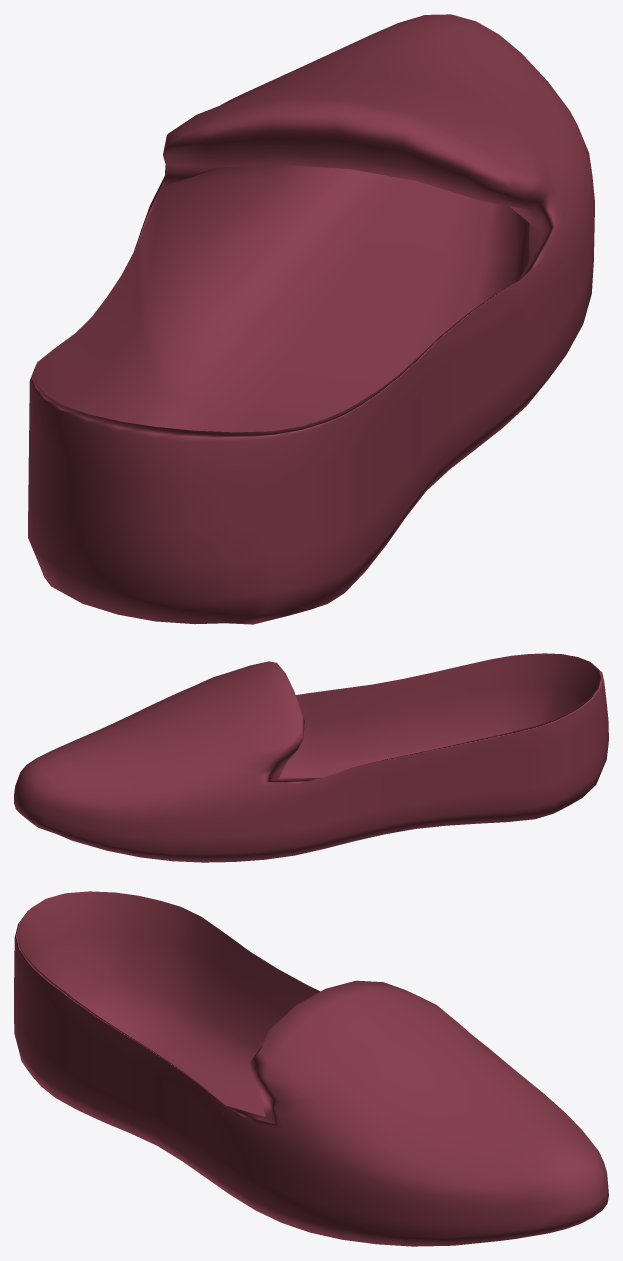
File: loft3.fbx
The picture shows the model from 3 angles, top to bottom: view 1: azimuth 30°, elevation 25°; view 2: azimuth 150°, elevation 25°; view 3: azimuth 270°, elevation 25°; orthographic projection. The views are drawn at different scales.
Parts seen in each view (by area): view 1: Flat2; view 2: Flat2; view 3: Flat2.
Boxes of the visible parts, box(x1,y1,x2,y2) form: Flat2: box(28, 14, 594, 624); Flat2: box(14, 653, 608, 862); Flat2: box(14, 891, 608, 1246).
Bounding box in the file's own units: 3.18 × 1.11 × 3.22.
